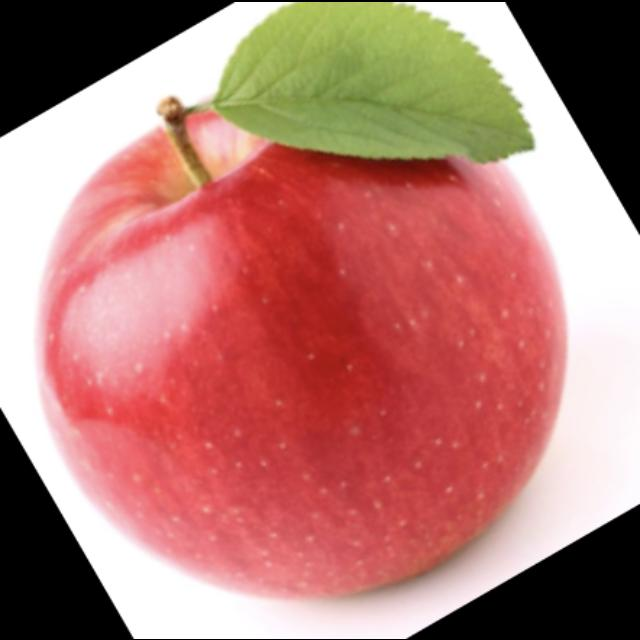Apel Segar: (27, 74, 575, 608)
